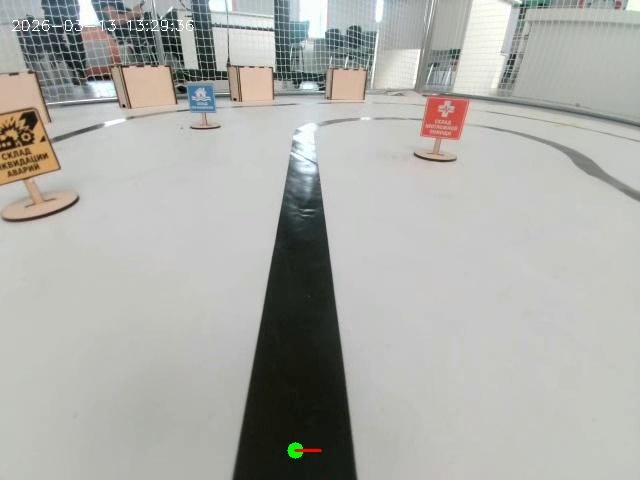flood: (175, 85, 225, 137)
industrial: (0, 93, 78, 234)
medical: (402, 90, 474, 185)
